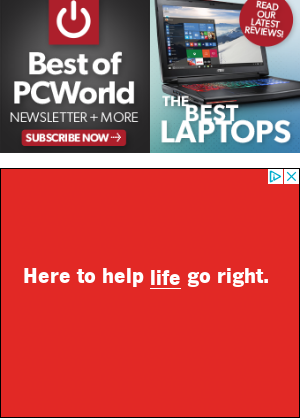fake_button: (0, 163, 300, 418)
